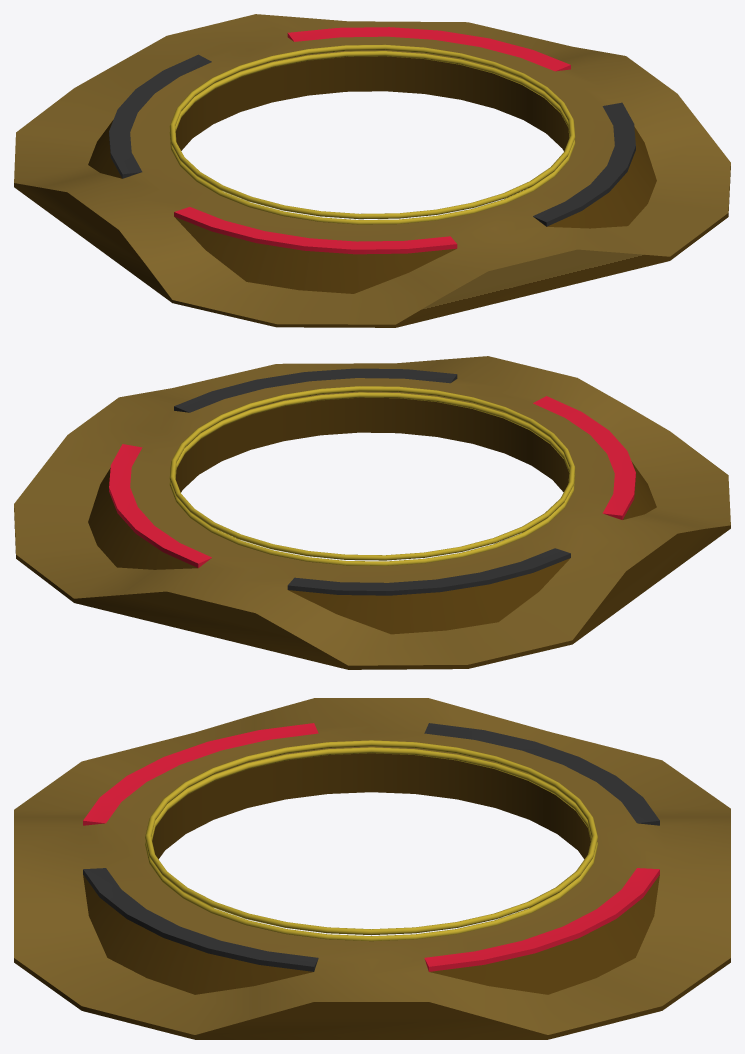
The model's file is RouletteCase.fbx.
3 views of the same model, one above another, from view 1: azimuth 30°, elevation 25°; view 2: azimuth 150°, elevation 25°; view 3: azimuth 270°, elevation 25° (orthographic). The views are drawn at different scales.
Visible parts, largest first — view 1: RouletteCase, RouletteCase.001; view 2: RouletteCase, RouletteCase.001; view 3: RouletteCase, RouletteCase.001.
Part boxes in pixels (box(x1,y1,x2,y2)): RouletteCase: box(14, 14, 730, 327); RouletteCase.001: box(169, 44, 575, 224); RouletteCase: box(14, 356, 730, 669); RouletteCase.001: box(169, 386, 575, 565); RouletteCase: box(14, 698, 730, 1039); RouletteCase.001: box(145, 740, 597, 941).
Bounding box in the file's own units: 112 × 112 × 9.16.
